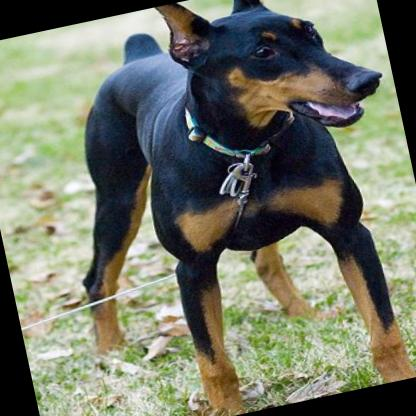Doberman: (18, 0, 416, 416)
